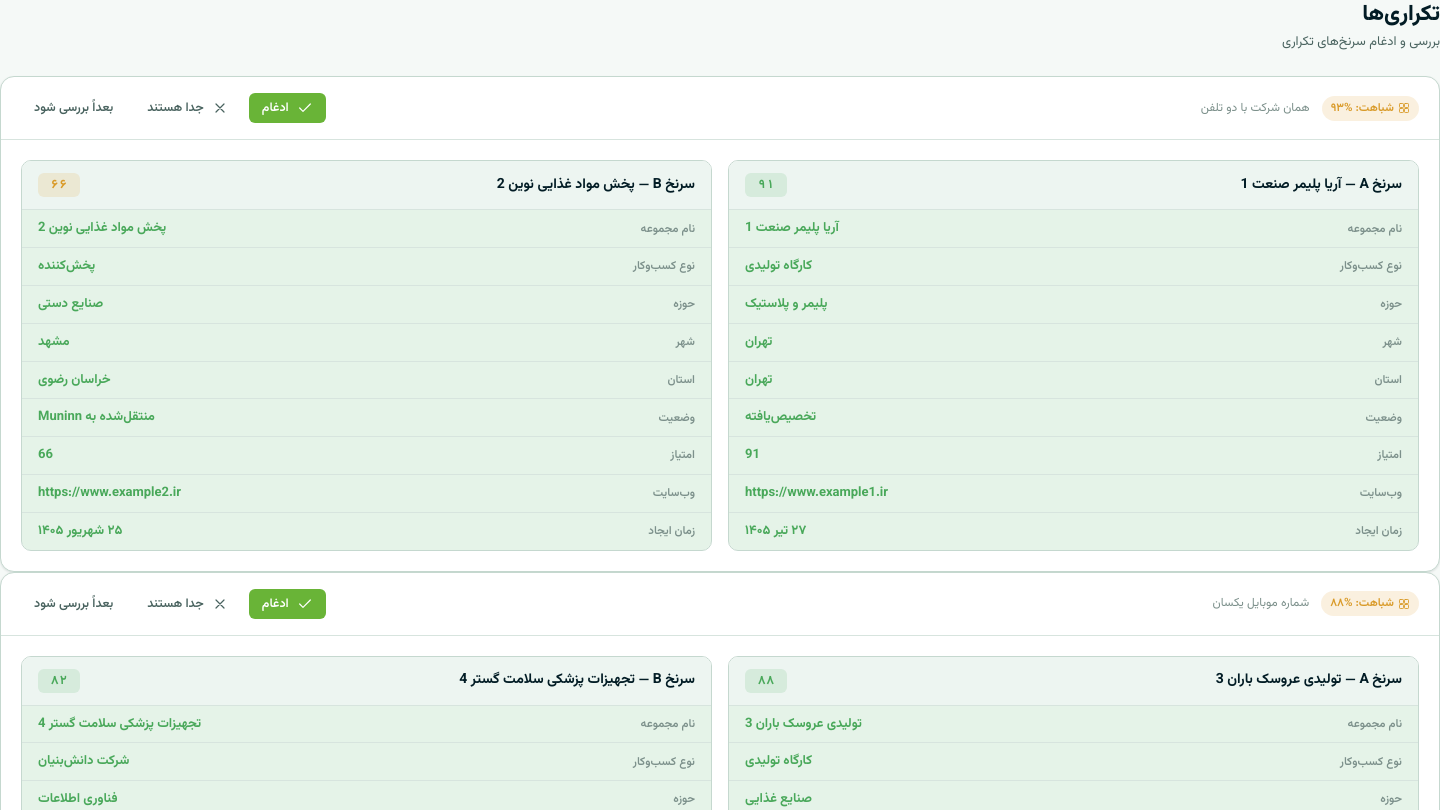
Test: duplicate review › opens the merge dialog with surviving lead selection and confirms merge
Expected: the text "شباهت: %۹۳" is shown, x1=1322 y1=96 x2=1419 y2=121
Click the button "ادغام" in the row of "همان شرکت با دو تلفن" at (287, 108), box x1=249 y1=94 x2=326 y2=124
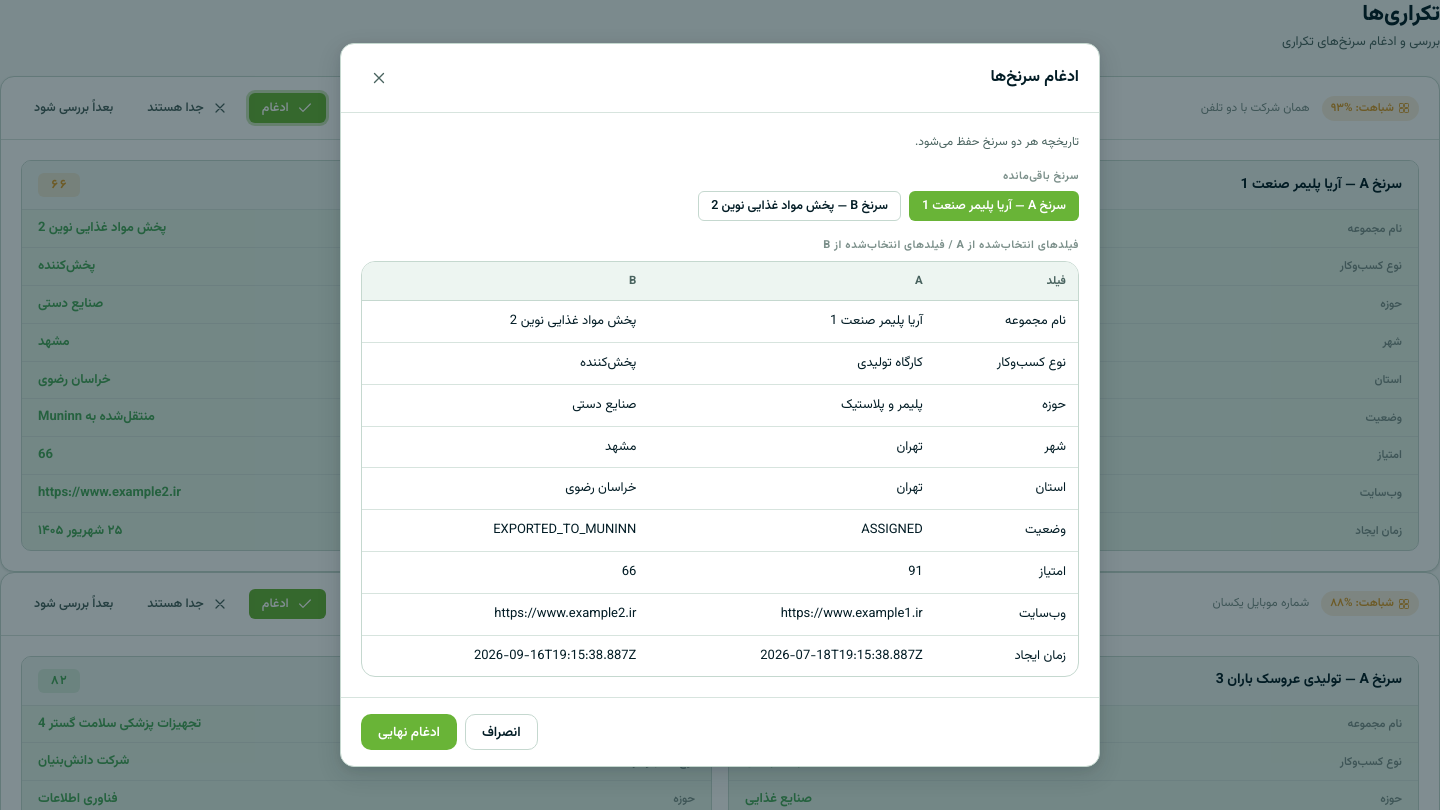
Expected: the text "سرنخ باقی‌مانده" is shown, x1=1003 y1=168 x2=1079 y2=185
Expected: the text "فیلدهای انتخاب‌شده از A / فیلدهای انتخاب‌شده از B" is shown, x1=823 y1=237 x2=1079 y2=254
